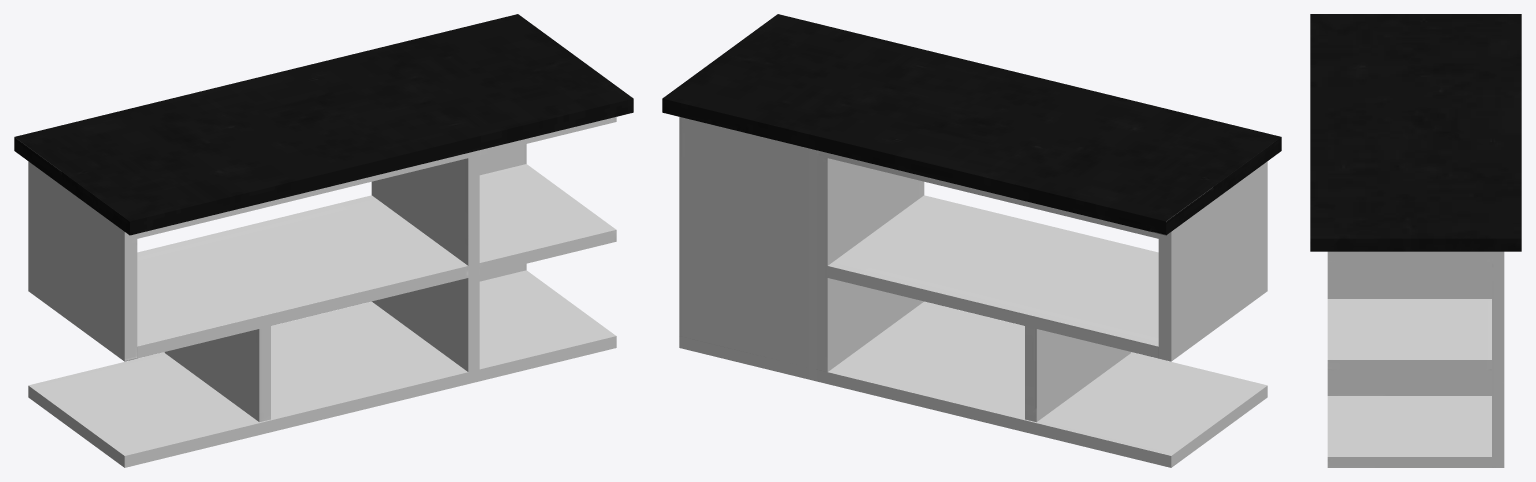
3 views of the same model, side by side, from view 1: azimuth 30°, elevation 25°; view 2: azimuth 150°, elevation 25°; view 3: azimuth 270°, elevation 25° (orthographic). The views are drawn at different scales.
Visible parts, largest first — view 1: Marble Shelf 2; view 2: Marble Shelf 2; view 3: Marble Shelf 2.
Part boxes in pixels (x1=…): Marble Shelf 2: x1=14, y1=14, x2=633, y2=467; Marble Shelf 2: x1=662, y1=14, x2=1281, y2=467; Marble Shelf 2: x1=1310, y1=14, x2=1521, y2=467.
Bounding box in the file's own units: 1.9 × 0.9181 × 0.7555.
1 material, 1 textured.
